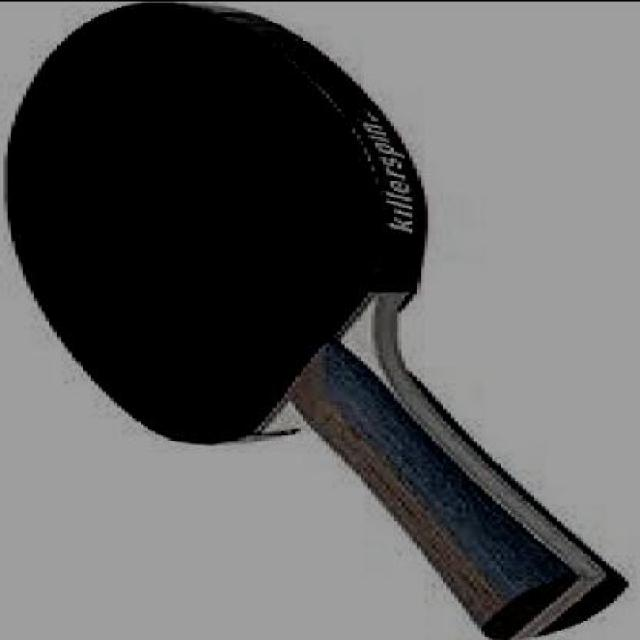table_tennis_racket: (2, 2, 426, 444)
